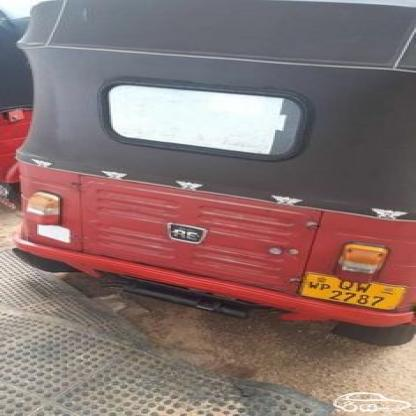number plate: (298, 276, 400, 307)
three wheeler back: (16, 0, 416, 348)
